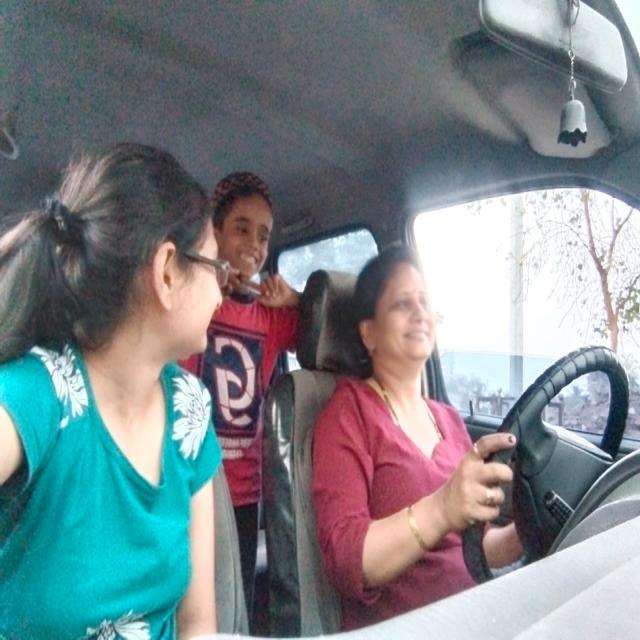person: (55, 138, 224, 382), (350, 245, 445, 382), (208, 165, 284, 295)
